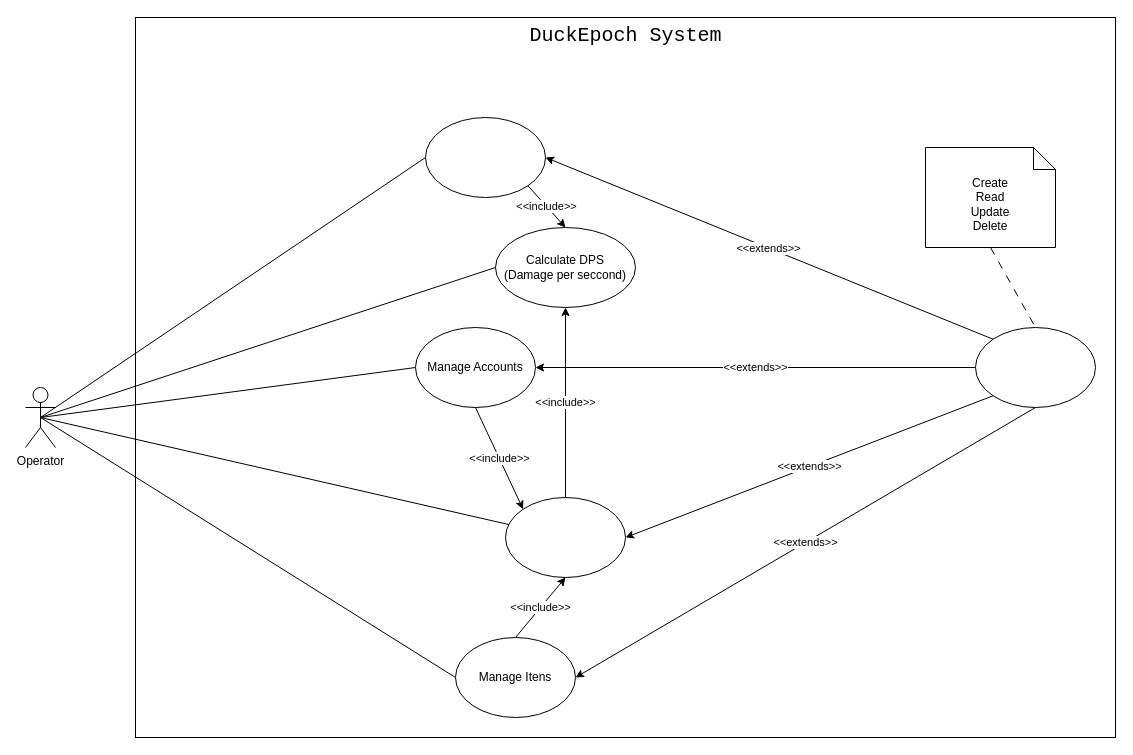
This 1133x755 diagram has some shape labels left out. Each missing label, with the box of its shape:
CRUD Operations: (974, 326, 1096, 408)
Manage Builds: (504, 496, 626, 578)
Manage Monsters: (424, 116, 546, 198)
